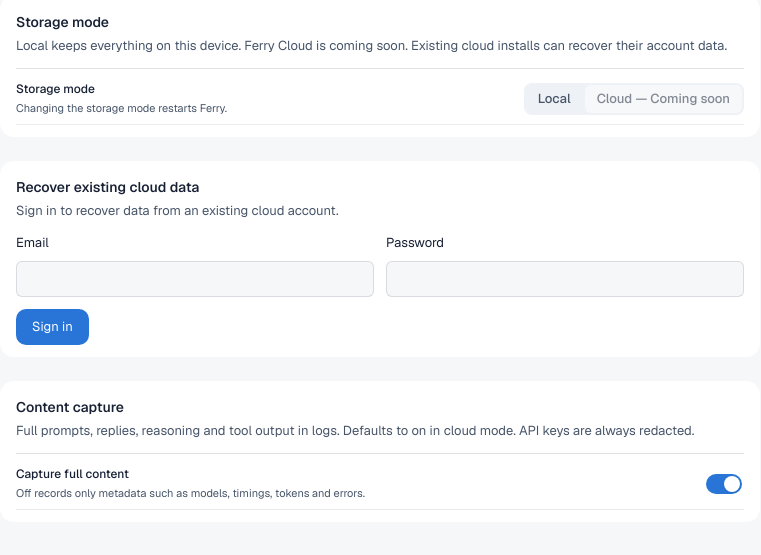
Scenario: CloudSettings › submits email and password, then clears the password field
Type "admin@example.com" into the field labelled "Email" at (195, 279), box 16,261 -> 374,297
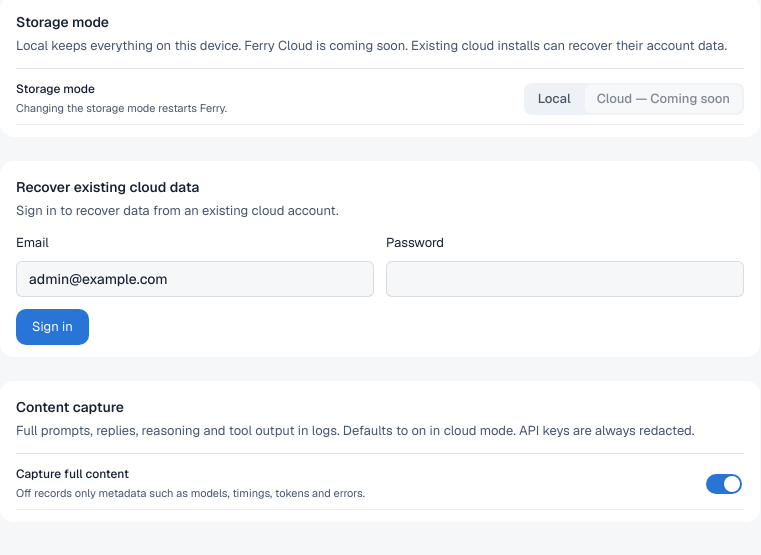
Type "never-print-this" into the password field labelled "Password" at (565, 279), box 386,261 -> 744,297
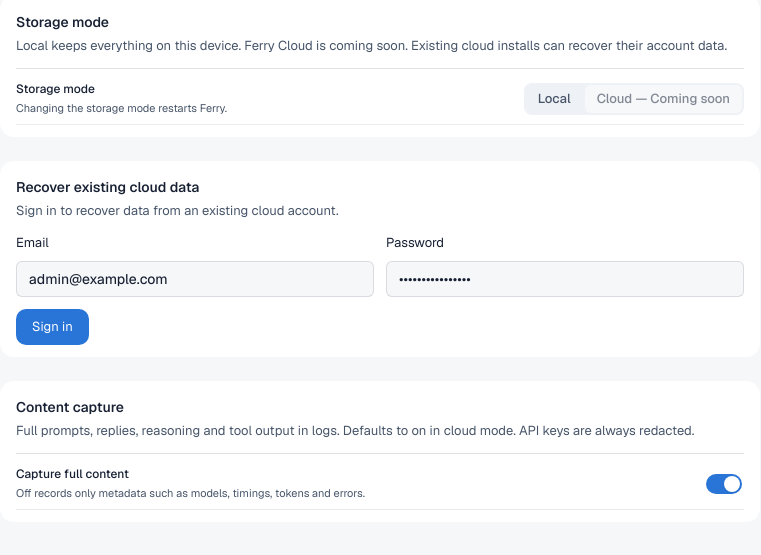
Click the button "Sign in" at (52, 327), box 16,309 -> 89,345
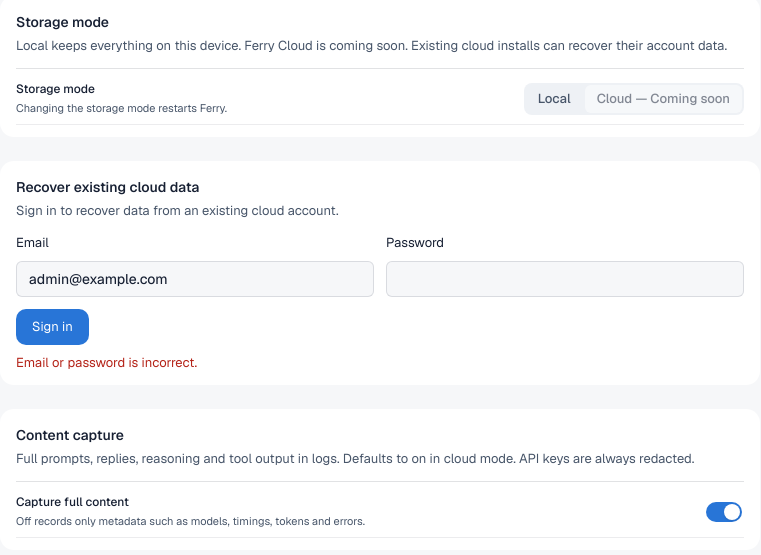
Now the password field labelled "Password" is empty, box 386,261 -> 744,297
Now the message reads "Email or password is incorrect.", box 16,354 -> 197,371
